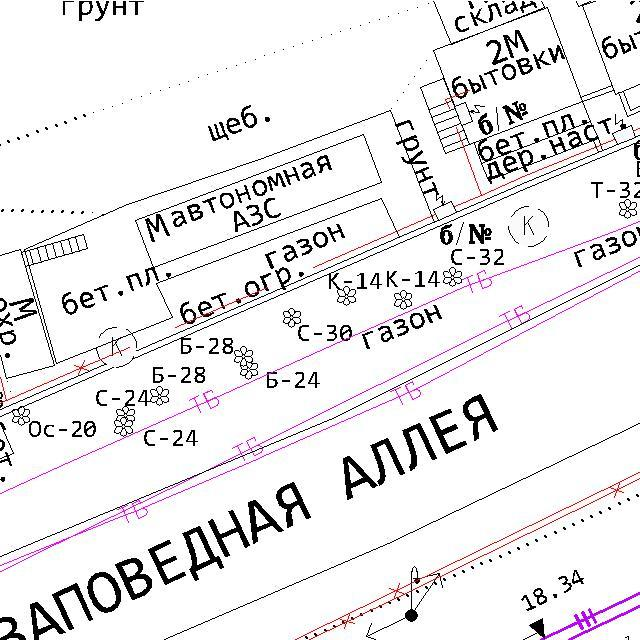bushes: (506, 204, 551, 249), (94, 325, 138, 369), (232, 344, 255, 368), (148, 383, 170, 408), (442, 266, 464, 289), (336, 284, 358, 307), (113, 415, 135, 438), (392, 288, 413, 312), (238, 360, 260, 382), (281, 306, 302, 329), (10, 405, 33, 426), (617, 198, 638, 220), (114, 404, 137, 422)
mark: (528, 616, 547, 640)
